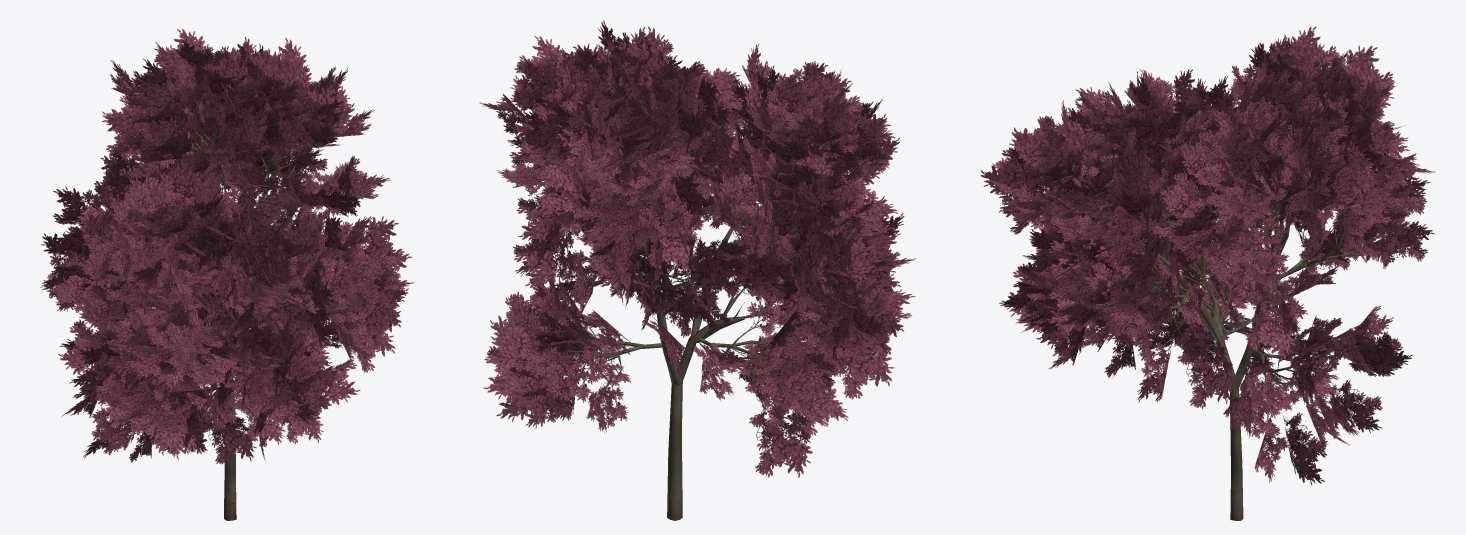
Rendered from plum_tree.glb.
The picture shows the model from 3 angles, left to right: view 1: azimuth 30°, elevation 25°; view 2: azimuth 150°, elevation 25°; view 3: azimuth 270°, elevation 25°; orthographic projection. The views are drawn at different scales.
Visible parts, largest first — view 1: Object_13; view 2: Object_13; view 3: Object_13.
Part boxes in pixels (<box>): Object_13: <box>40,29,414,520</box>; Object_13: <box>479,20,916,520</box>; Object_13: <box>980,26,1435,520</box>.
Size of the model in its own units: 9.24 by 11.11 by 9.98.
Materials: 2 (2 with a texture image).
